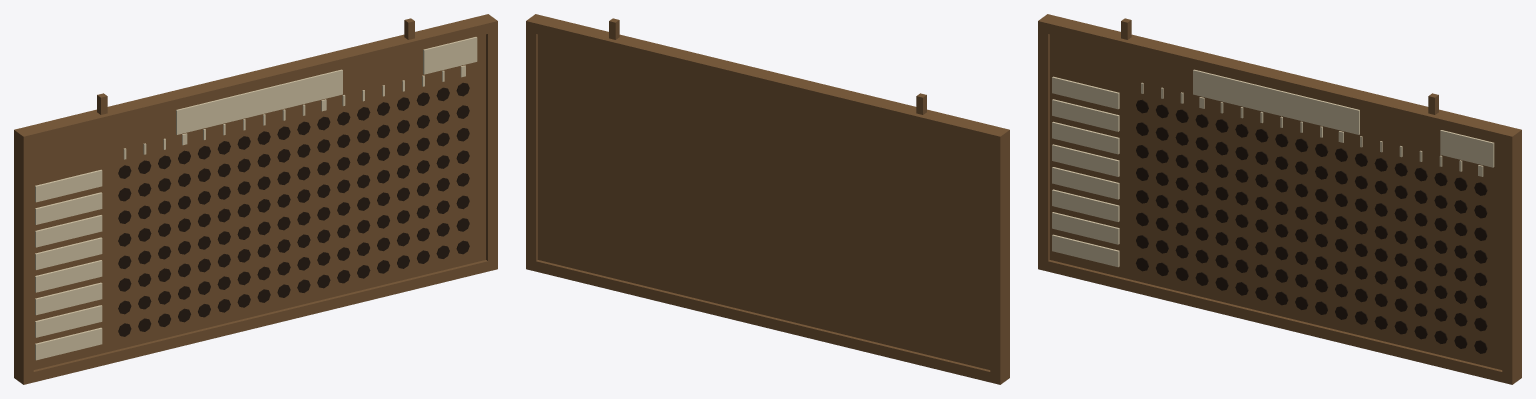
Rendered from Prop_YTM_StayCalendar.glb.
The picture shows the model from 3 angles, left to right: view 1: azimuth 30°, elevation 25°; view 2: azimuth 150°, elevation 25°; view 3: azimuth 330°, elevation 25°; orthographic projection.
Parts seen in each view (by area): view 1: Prop_YTM_StayCalendar; view 2: Prop_YTM_StayCalendar; view 3: Prop_YTM_StayCalendar.
Boxes of the visible parts, x1=… form: Prop_YTM_StayCalendar: x1=14, y1=14, x2=497, y2=384; Prop_YTM_StayCalendar: x1=526, y1=14, x2=1009, y2=384; Prop_YTM_StayCalendar: x1=1038, y1=14, x2=1521, y2=384.
Size of what is drawn, in the model's own units: 1.43 by 0.765 by 0.05.
